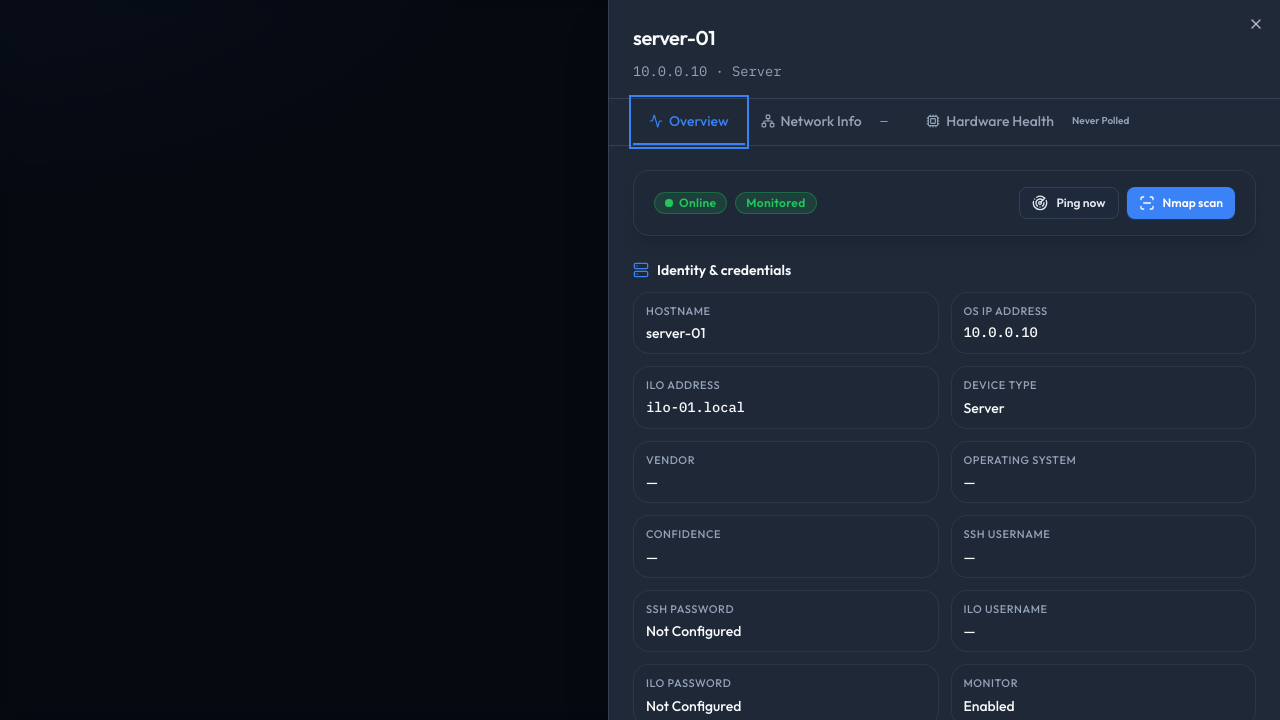
it: DeviceDrawer - HPE iLO Hardware & Freshness UI › 4. Never Polled state without errors: renders clean empty state
Click the button "Hardware Health Never Polled".
click(1031, 122)  # box [910,99,1151,145]
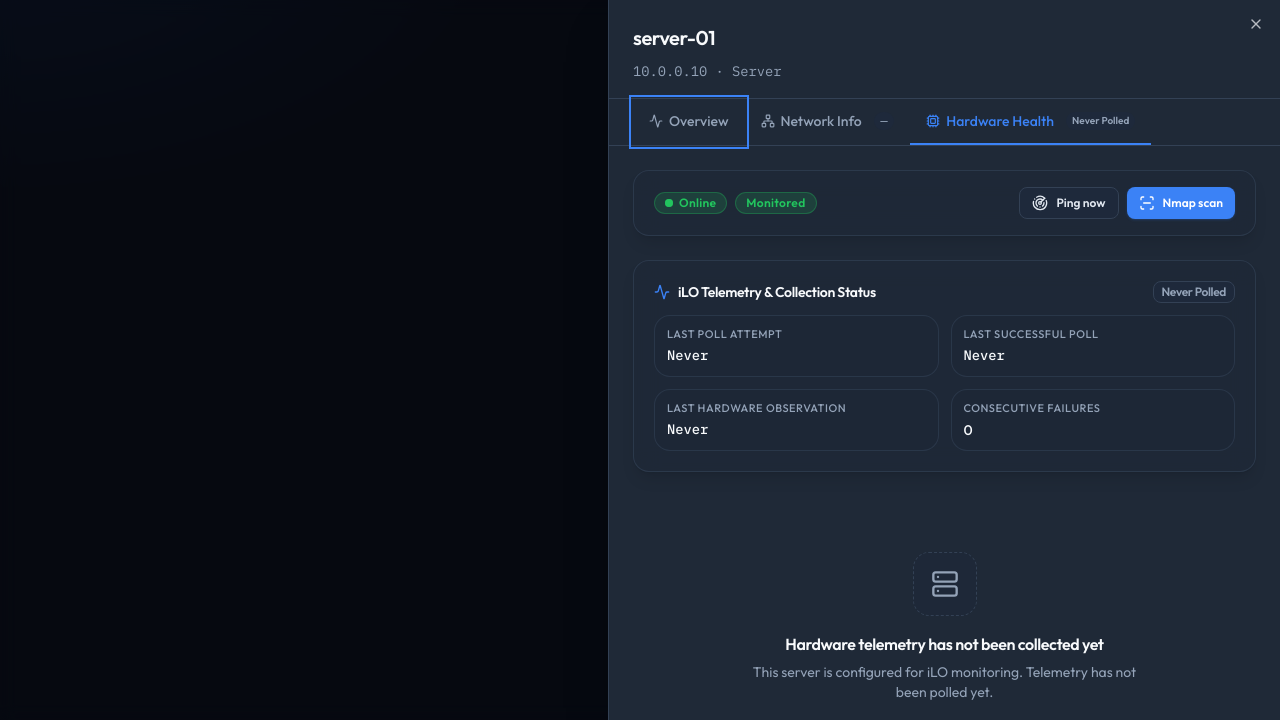
Expected: the 1st text "Never Polled" is shown, [1066,112,1135,130]
Expected: the heading "Hardware telemetry has not been collected yet" is shown, [785,634,1104,654]
